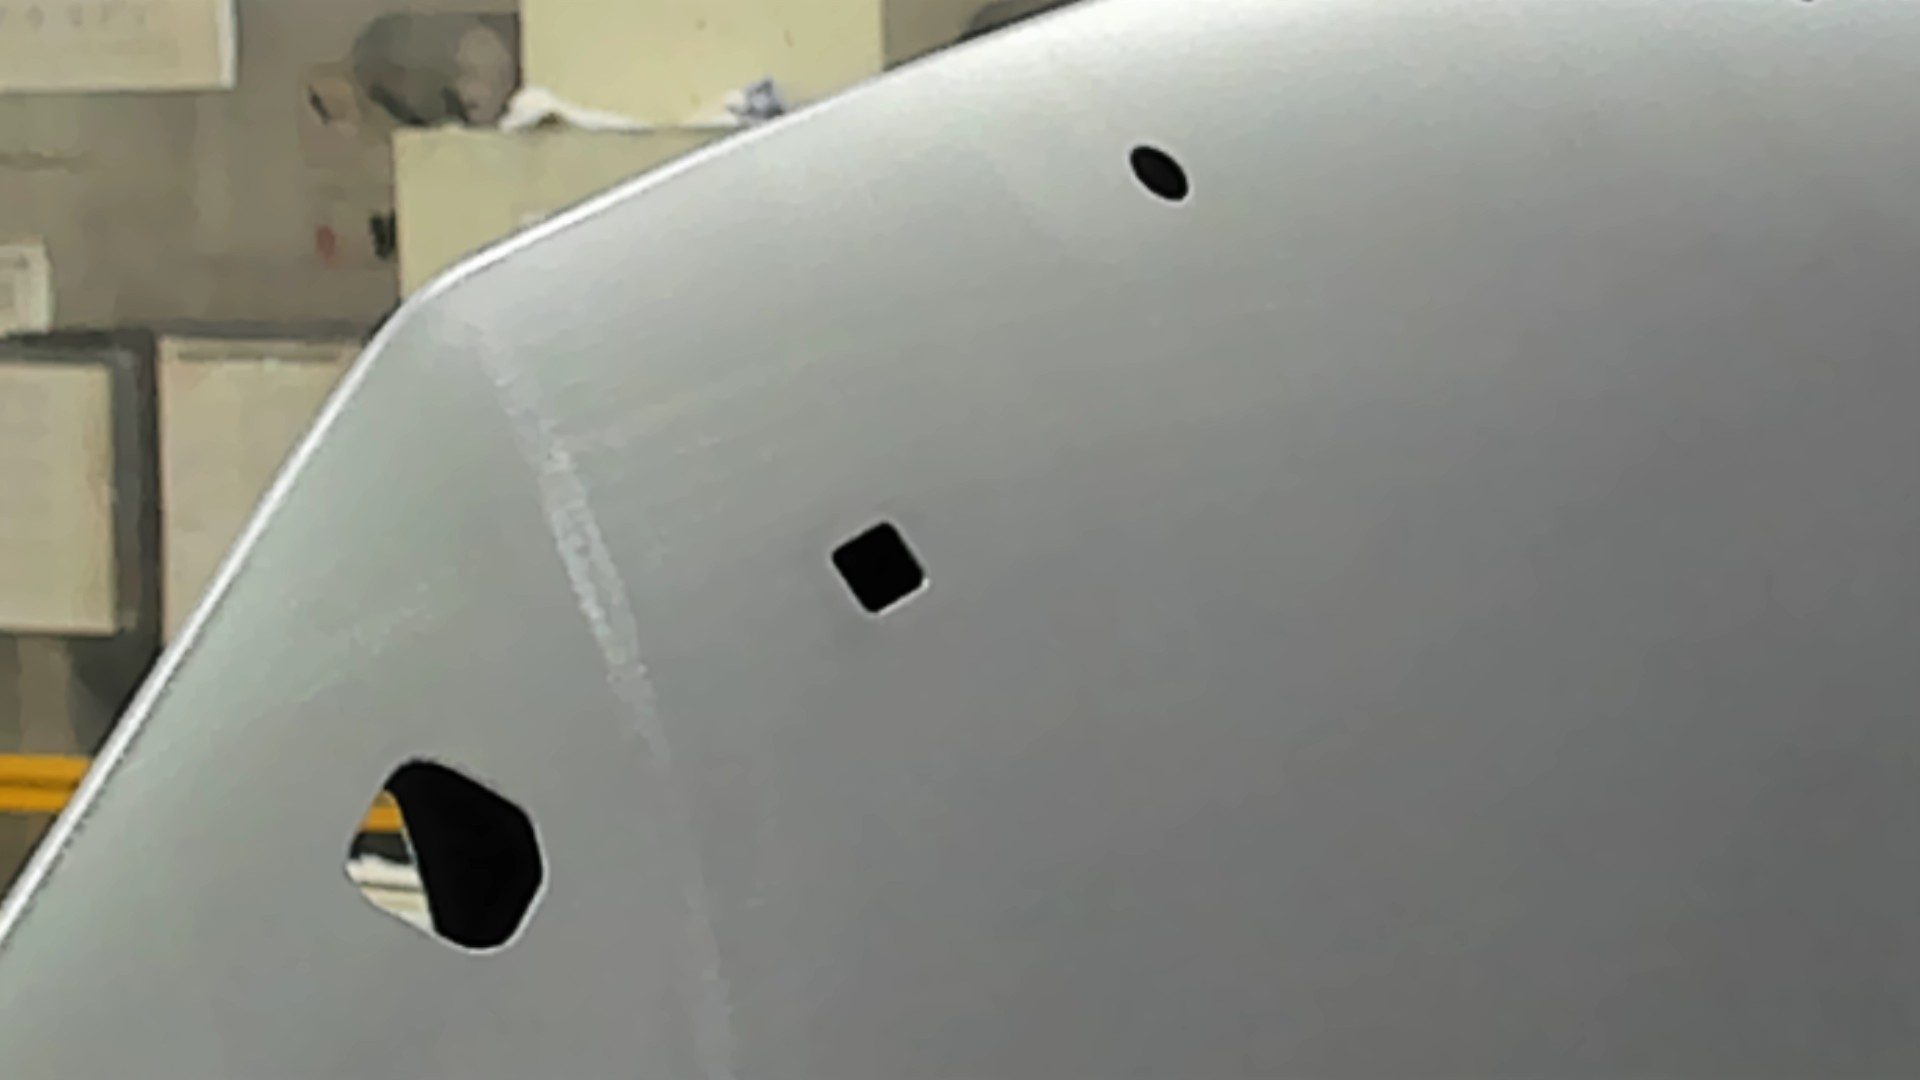chico: (1125, 140, 1193, 206)
grande: (339, 749, 554, 960)
mediano: (818, 514, 934, 622)
